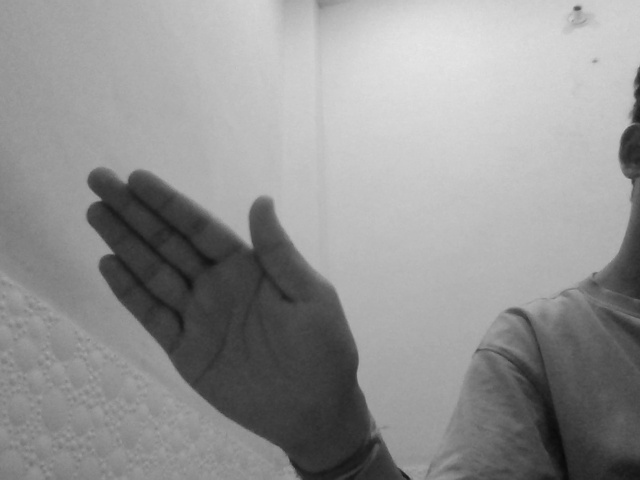Hello: (82, 166, 362, 439)
